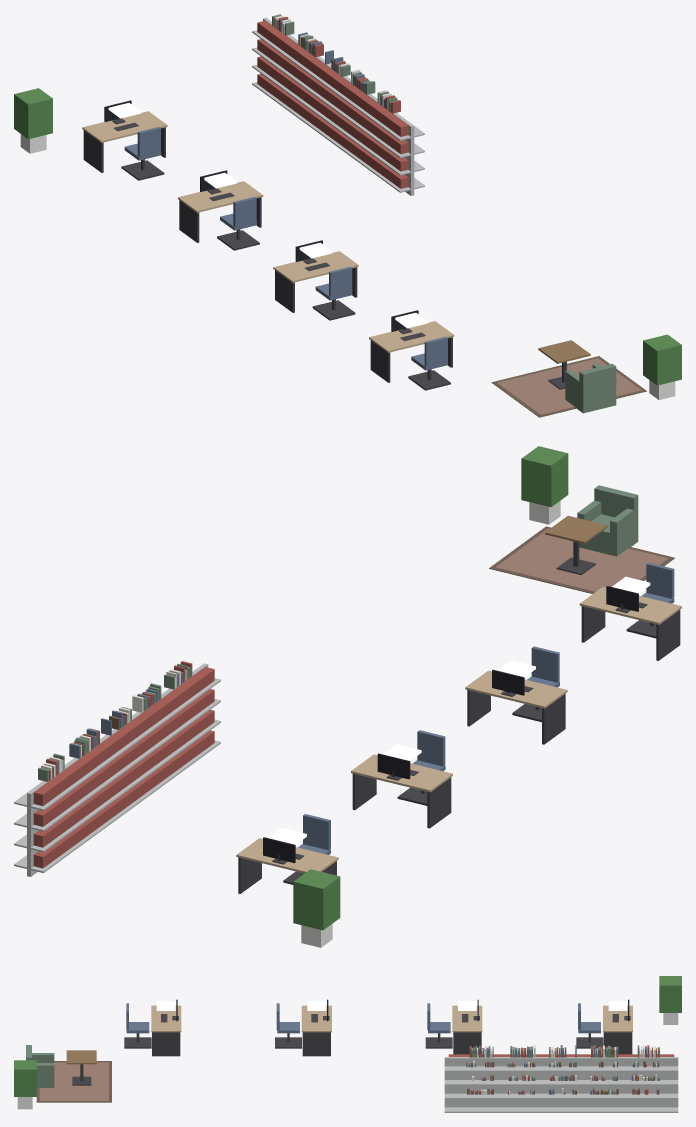
The model's file is fine-s1.glb.
The picture shows the model from 3 angles, top to bottom: view 1: azimuth 30°, elevation 25°; view 2: azimuth 150°, elevation 25°; view 3: azimuth 270°, elevation 25°; orthographic projection. The views are drawn at different scales.
Visible parts, largest first — view 1: soft-s1, shelving.005, shelving.001, shelving.003, shelving.002, office-desk-real.001, office-desk-real.002, office-desk-real.000, office-desk-real.003, shelving.004, sofa.000, plant-medium.001 (+6 smaller); view 2: soft-s1, shelving.001, office-desk-real.001, office-desk-real.003, office-desk-real.002, shelving.005, shelving.003, shelving.004, shelving.002, plant-medium.000, plant-medium.001, sofa.000 (+6 smaller); view 3: soft-s1, shelving.001, shelving.005, shelving.004, shelving.002, shelving.003, office-desk-real.003, office-desk-real.002, office-desk-real.001, office-desk-real.000, plant-medium.000, plant-medium.001 (+6 smaller).
Part boxes in pixels (bbox=[...]): soft-s1: bbox=[272, 14, 646, 417]; shelving.005: bbox=[357, 95, 424, 195]; shelving.001: bbox=[252, 17, 303, 115]; shelving.003: bbox=[305, 57, 371, 153]; shelving.002: bbox=[278, 37, 331, 134]; office-desk-real.001: bbox=[178, 170, 263, 242]; office-desk-real.002: bbox=[273, 240, 358, 312]; office-desk-real.000: bbox=[82, 100, 167, 172]; office-desk-real.003: bbox=[369, 310, 454, 382]; shelving.004: bbox=[331, 76, 398, 173]; sofa.000: bbox=[565, 363, 616, 413]; plant-medium.001: bbox=[14, 88, 52, 153]; soft-s1: bbox=[38, 526, 674, 781]; shelving.001: bbox=[14, 757, 95, 876]; office-desk-real.001: bbox=[351, 753, 452, 828]; office-desk-real.003: bbox=[579, 586, 681, 660]; office-desk-real.002: bbox=[465, 669, 567, 744]; shelving.005: bbox=[157, 663, 220, 779]; shelving.003: bbox=[96, 711, 158, 825]; shelving.004: bbox=[128, 688, 189, 803]; shelving.002: bbox=[65, 733, 126, 849]; plant-medium.000: bbox=[521, 446, 568, 524]; plant-medium.001: bbox=[293, 869, 340, 947]; sofa.000: bbox=[577, 485, 638, 556]; soft-s1: bbox=[36, 1045, 659, 1102]; shelving.001: bbox=[610, 1054, 678, 1112]; shelving.005: bbox=[444, 1054, 512, 1112]; shelving.004: bbox=[486, 1054, 553, 1112]; shelving.002: bbox=[569, 1054, 636, 1112]; shelving.003: bbox=[527, 1054, 595, 1112]; office-desk-real.003: bbox=[151, 999, 181, 1056]; office-desk-real.002: bbox=[301, 999, 331, 1056]; office-desk-real.001: bbox=[452, 999, 482, 1054]; office-desk-real.000: bbox=[603, 999, 632, 1054]; plant-medium.000: bbox=[14, 1060, 36, 1109]; plant-medium.001: bbox=[659, 976, 681, 1024].
Size of the model in its own units: 6.3 by 1.93 by 17.74.
